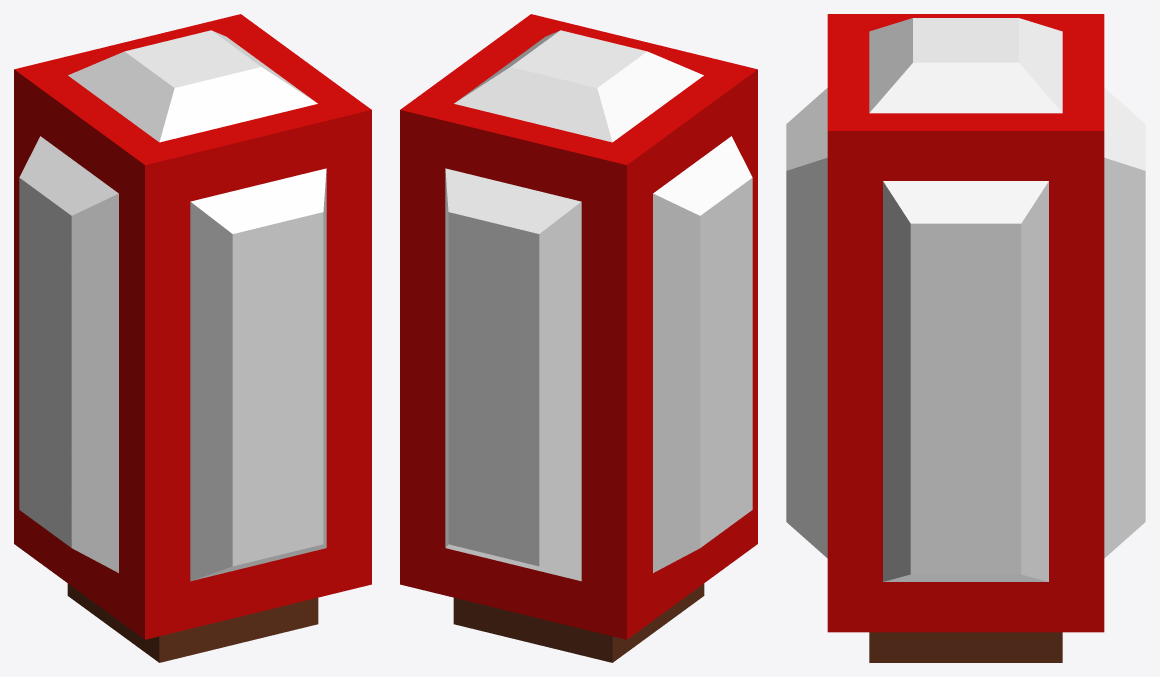
The model's file is Lantern.fbx.
The picture shows the model from 3 angles, left to right: view 1: azimuth 30°, elevation 25°; view 2: azimuth 150°, elevation 25°; view 3: azimuth 270°, elevation 25°; orthographic projection. The views are drawn at different scales.
Parts seen in each view (by area): view 1: Lantern; view 2: Lantern; view 3: Lantern.
Boxes of the visible parts, x1,y1,x2,y2 form: Lantern: (14,14,371,662); Lantern: (400,14,757,662); Lantern: (786,14,1145,662).
Size of the model in its own units: 260 by 464 by 260.
